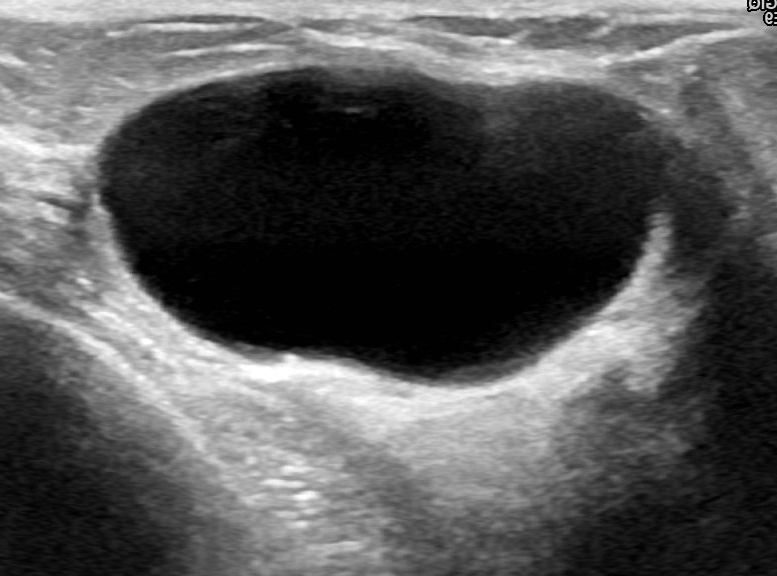Benign: (112, 58, 647, 372)
